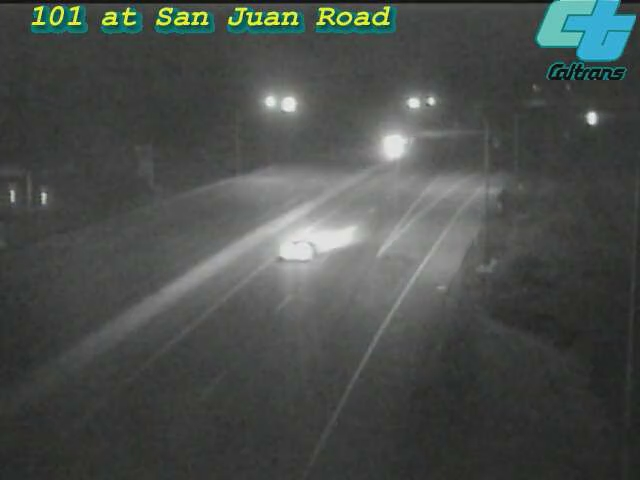vehicle: (257, 211, 337, 291), (366, 121, 416, 171), (568, 93, 618, 143)
